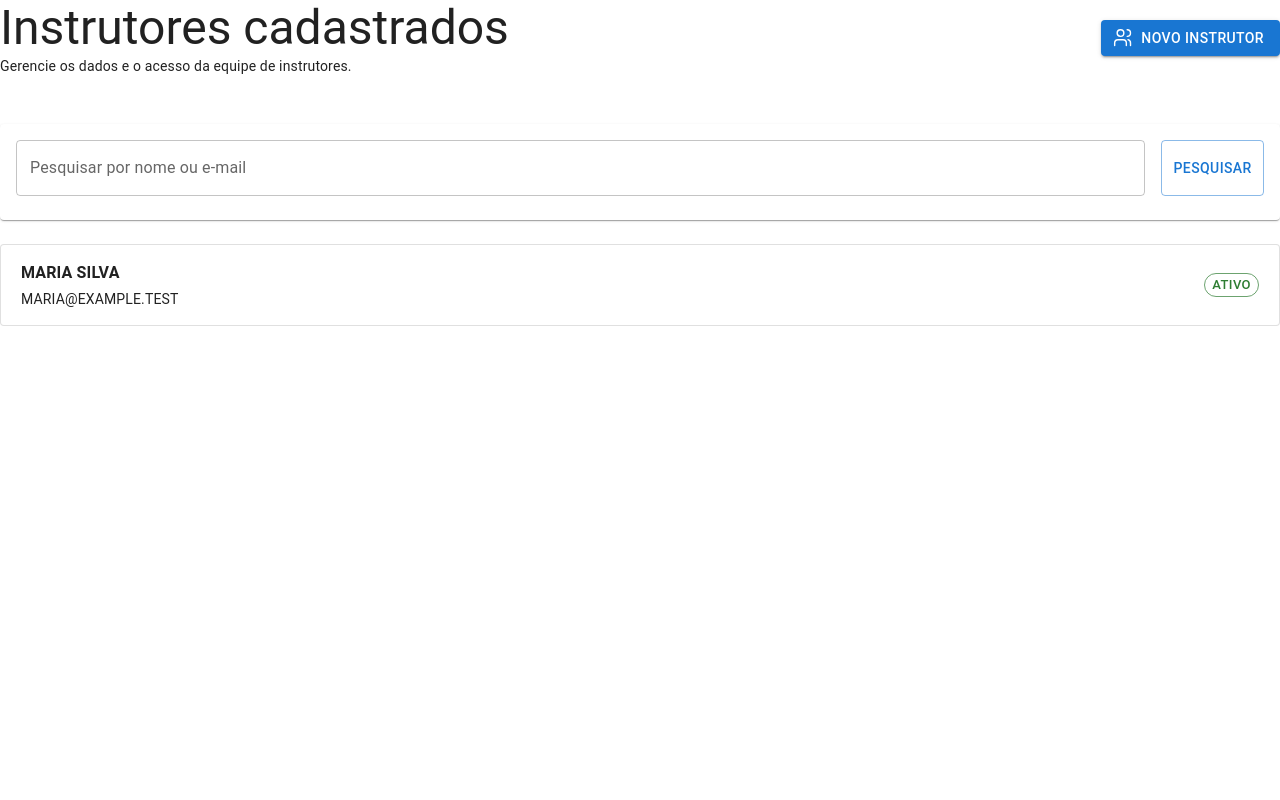
Scenario: invalid edits retain inputs and show Portuguese validation feedback
Click the button "Maria Silva maria@example.test Ativo" at (70, 273), box 1,245 -> 1279,325
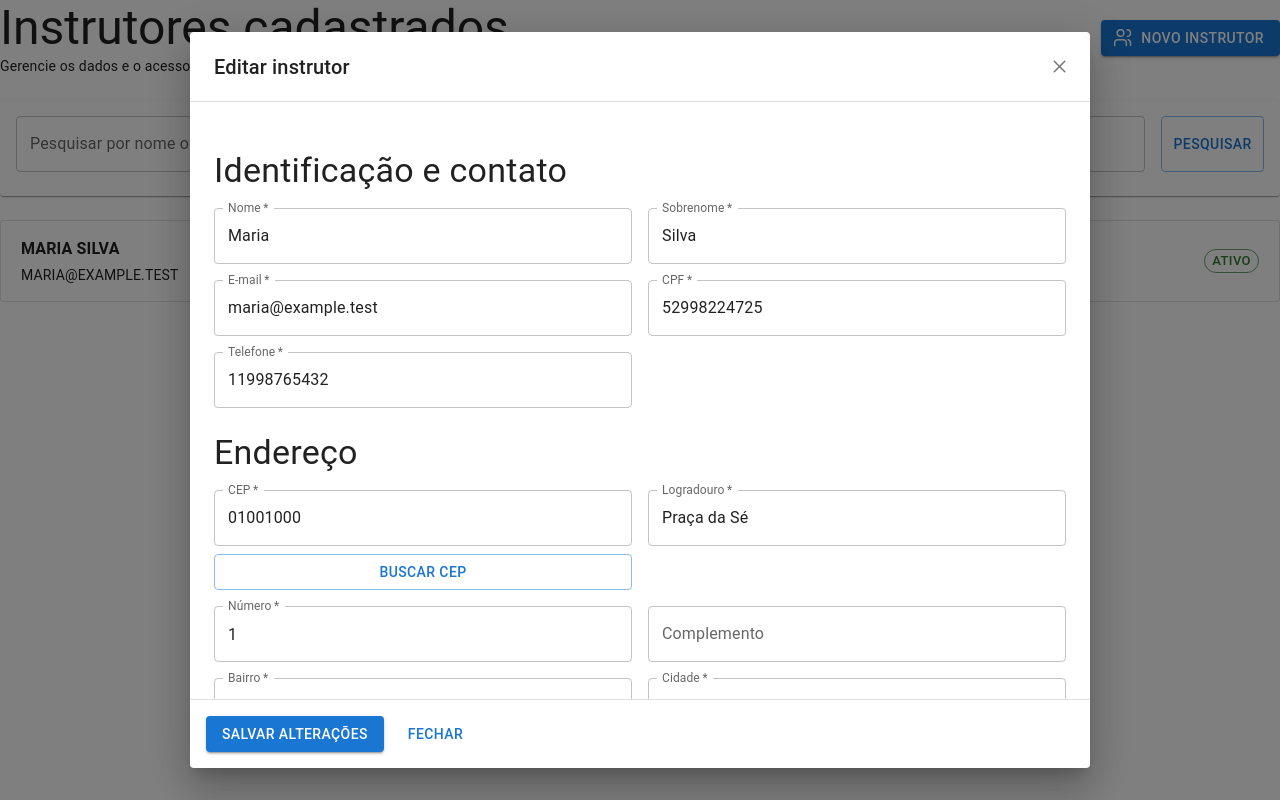
Check: the heading "Editar instrutor" is shown, box 214,48 -> 1078,85
Replace the text in the field labelled "CPF" with "00000000000" at (857, 308), box 648,280 -> 1066,336
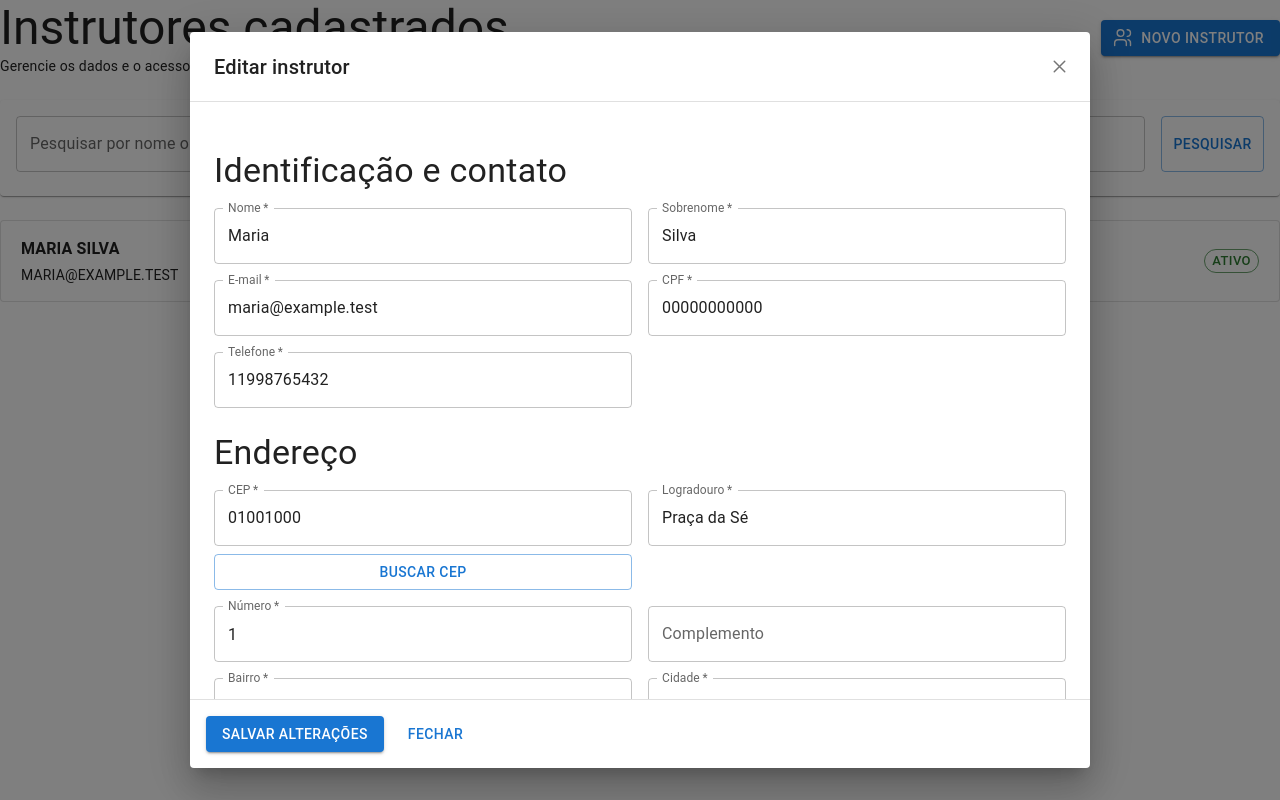
Click the button "Salvar alterações" at (295, 734), box 206,716 -> 384,752
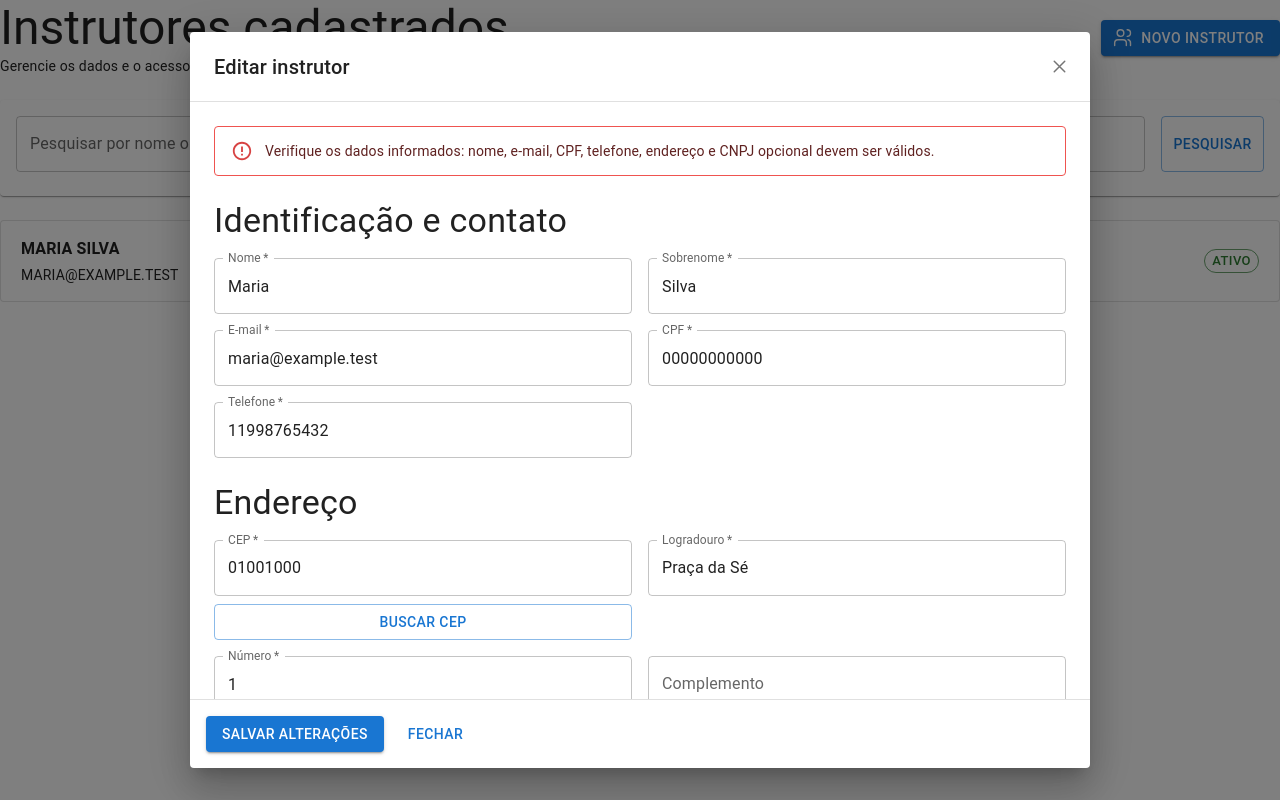
Check: the text "Verifique os dados informados" is shown, box 265,143 -> 935,159
